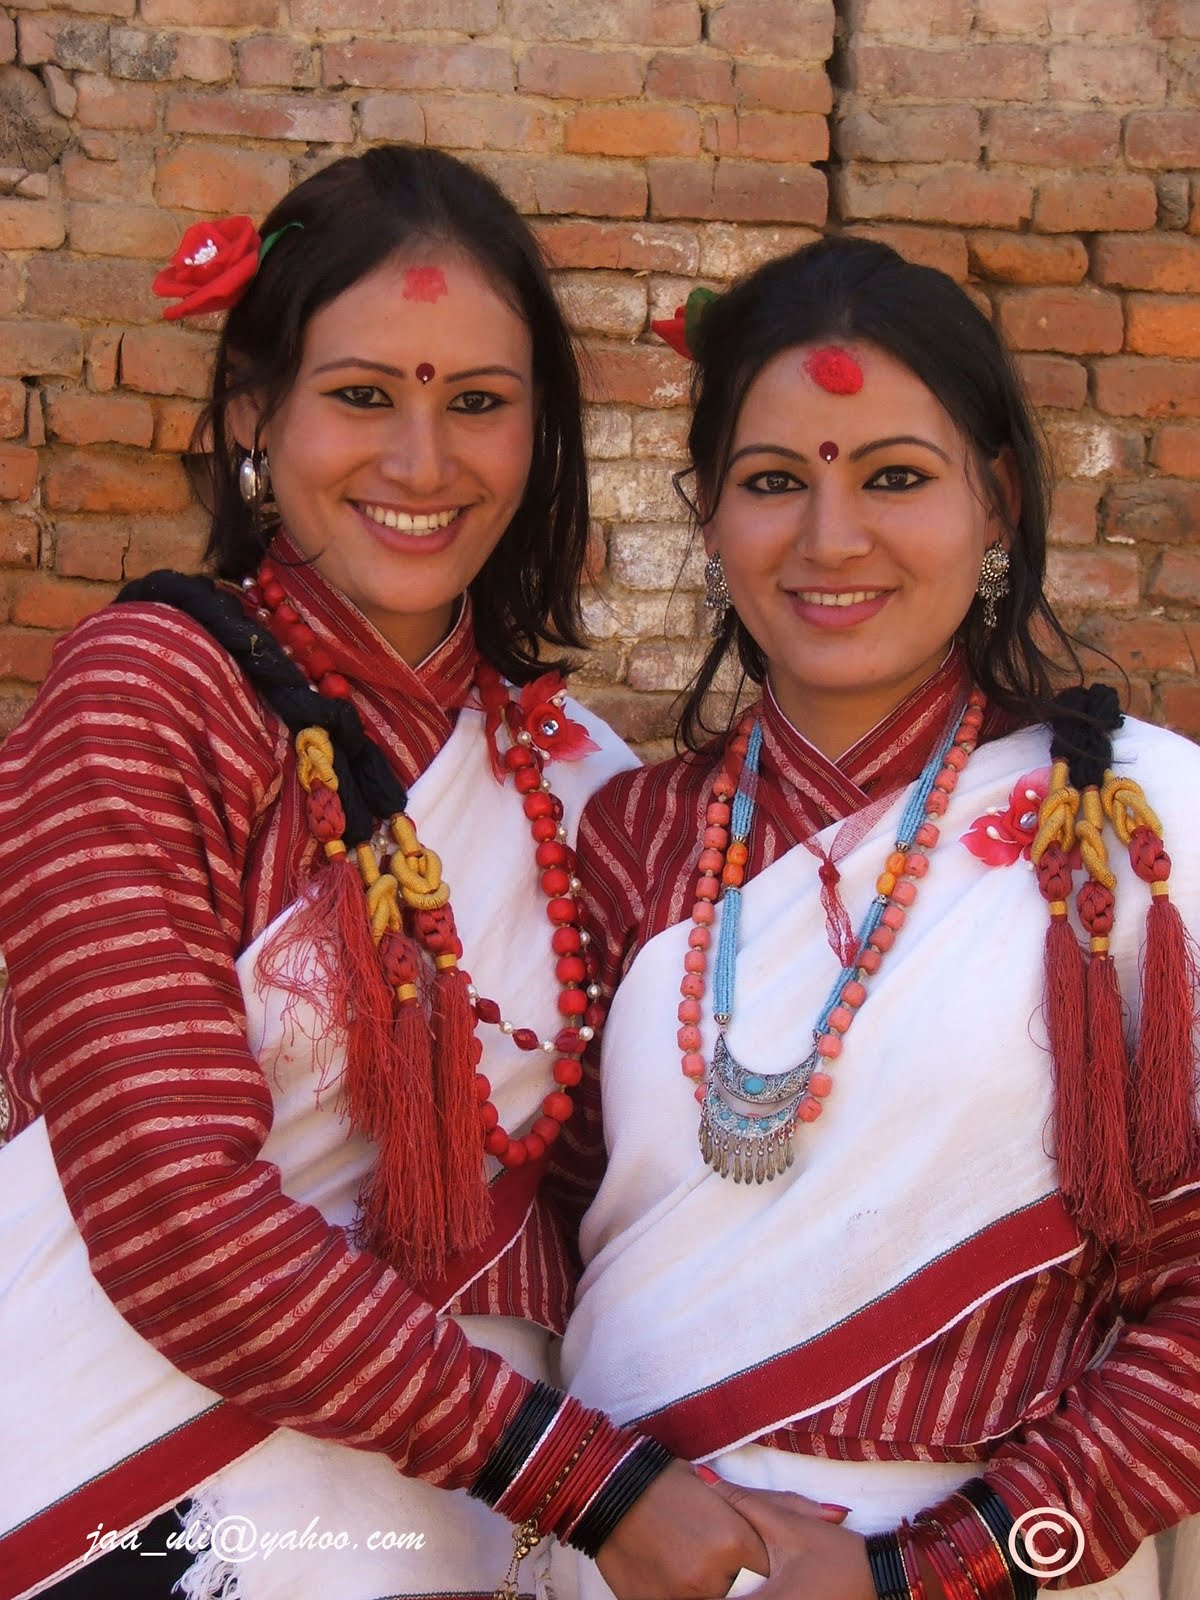human: (1, 123, 657, 1600), (562, 216, 1200, 1600)
